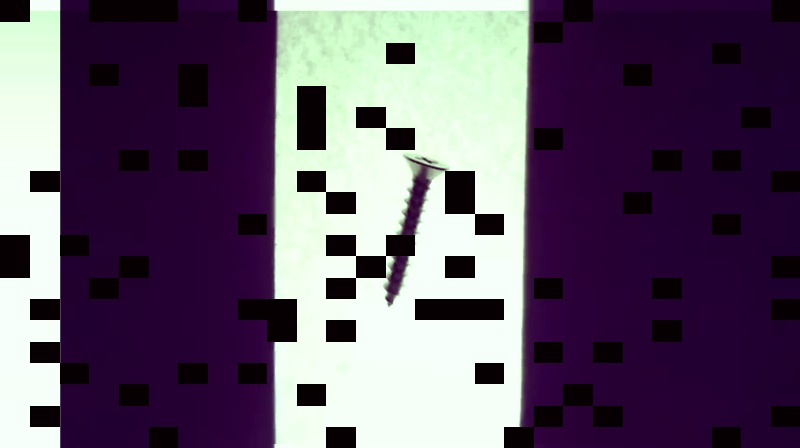S001: (378, 146, 455, 312)
